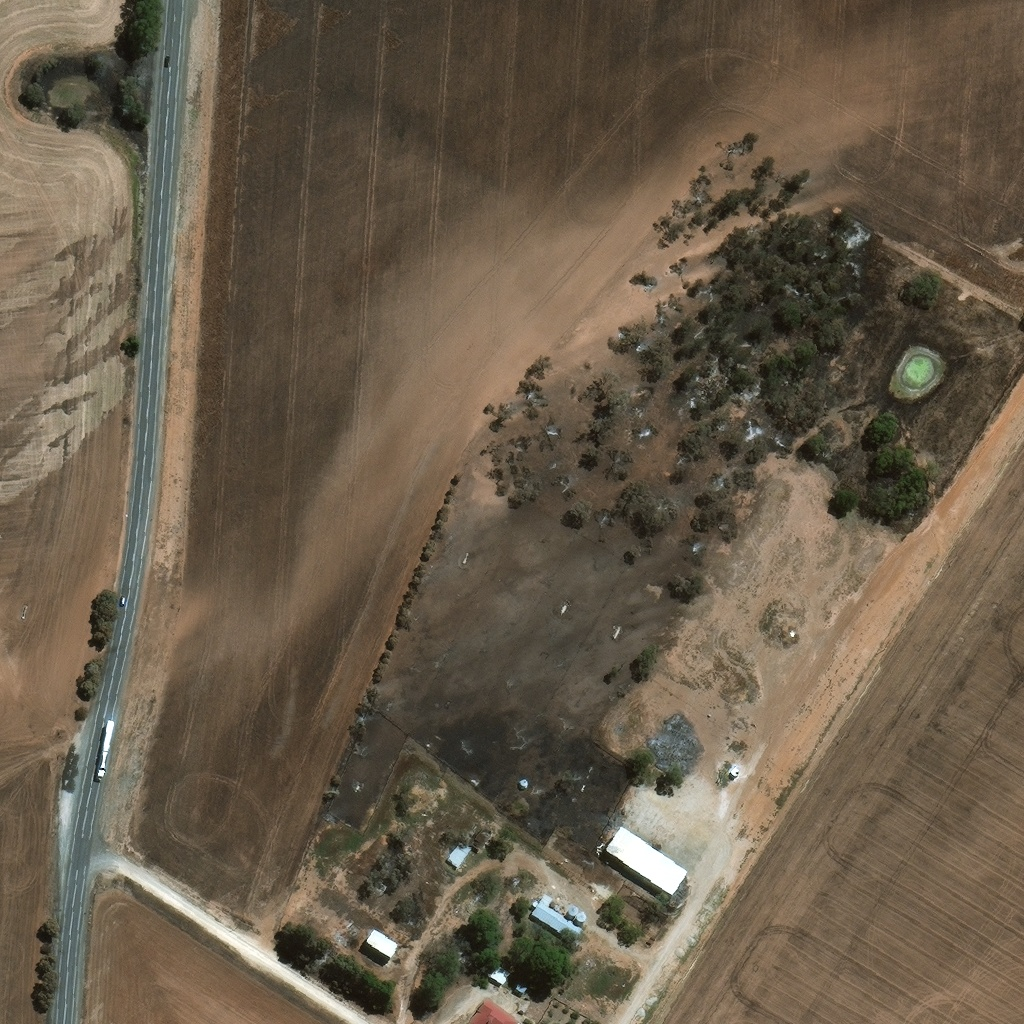0 no-damage: (605, 826, 691, 894), (532, 891, 585, 938), (365, 931, 398, 958), (487, 959, 512, 982), (568, 906, 588, 922), (516, 975, 530, 991), (731, 762, 742, 773), (520, 775, 530, 783), (532, 898, 540, 905)
2 major-damage: (448, 838, 474, 864)
4 un-classified: (467, 996, 521, 1023)
